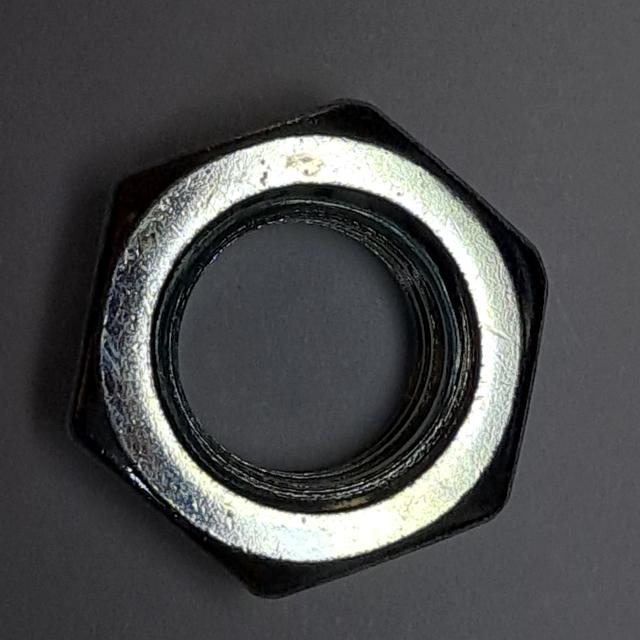Excellent: (55, 79, 555, 615)
